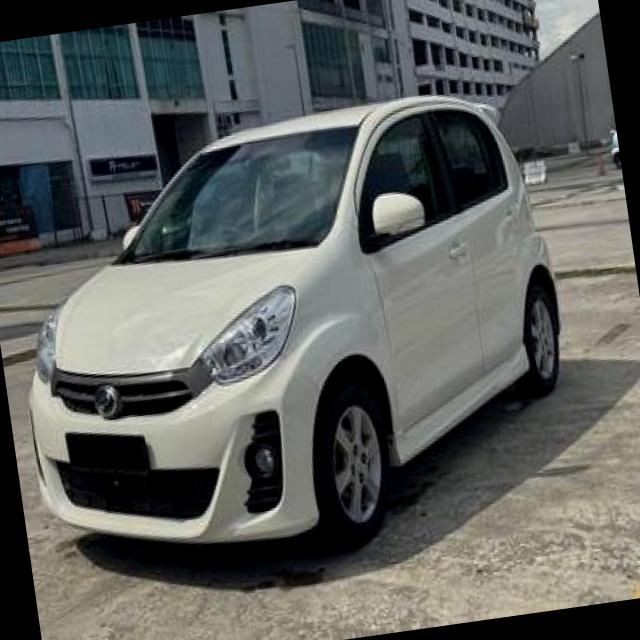PeroduaMyvi: (0, 76, 589, 590)
